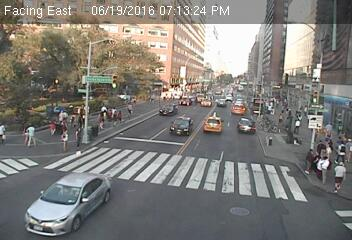neg: (170, 81, 180, 95), (201, 82, 208, 90), (243, 71, 250, 79), (222, 74, 228, 82), (226, 92, 232, 100)
pos: (327, 160, 351, 194), (313, 156, 336, 186), (300, 147, 321, 175), (20, 122, 39, 147), (56, 127, 74, 151), (335, 141, 349, 159), (323, 122, 335, 138), (124, 100, 136, 116), (96, 112, 108, 128), (292, 118, 303, 133), (75, 112, 86, 127), (315, 139, 325, 152), (110, 106, 119, 118), (60, 110, 69, 122), (324, 144, 332, 154), (69, 114, 76, 124), (102, 103, 107, 111)
